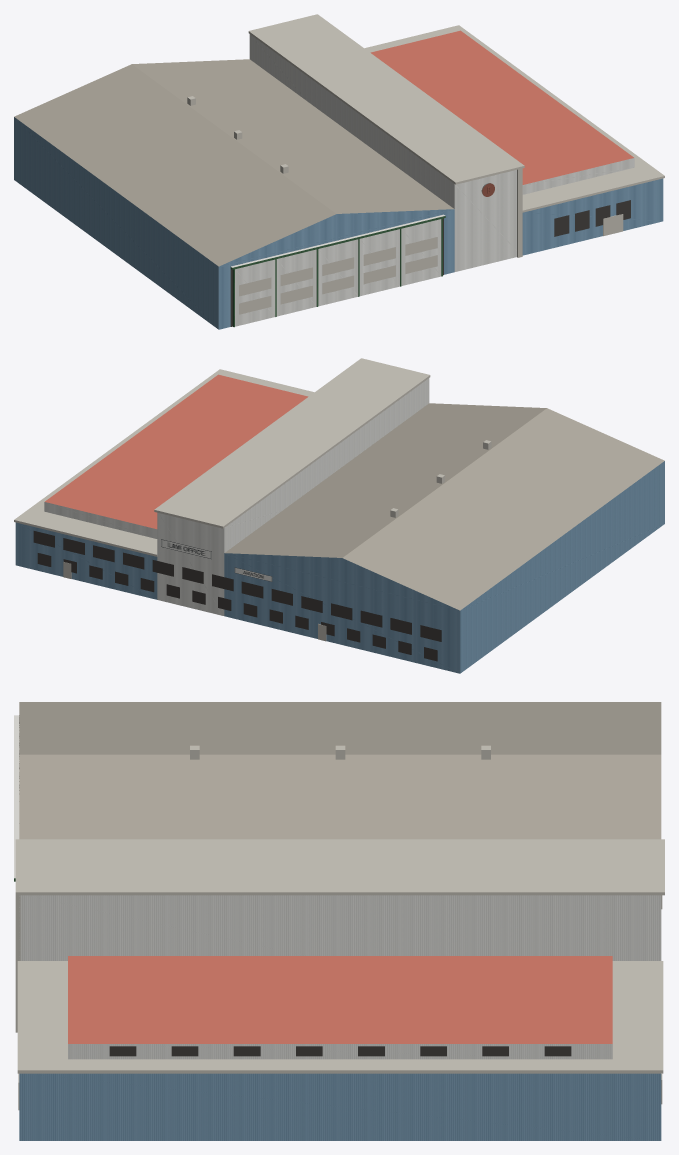
File: cyxd_hangar8.gltf
The picture shows the model from 3 angles, top to bottom: view 1: azimuth 30°, elevation 25°; view 2: azimuth 150°, elevation 25°; view 3: azimuth 270°, elevation 25°; orthographic projection. The views are drawn at different scales.
Parts seen in each view (by area): view 1: cyxd_hangar8; view 2: cyxd_hangar8; view 3: cyxd_hangar8.
Boxes of the visible parts, <box> form: cyxd_hangar8: <box>14,14,664,329</box>; cyxd_hangar8: <box>14,358,664,673</box>; cyxd_hangar8: <box>14,702,664,1140</box>.
Bounding box in the file's own units: 66.45 × 13.3 × 53.65.
